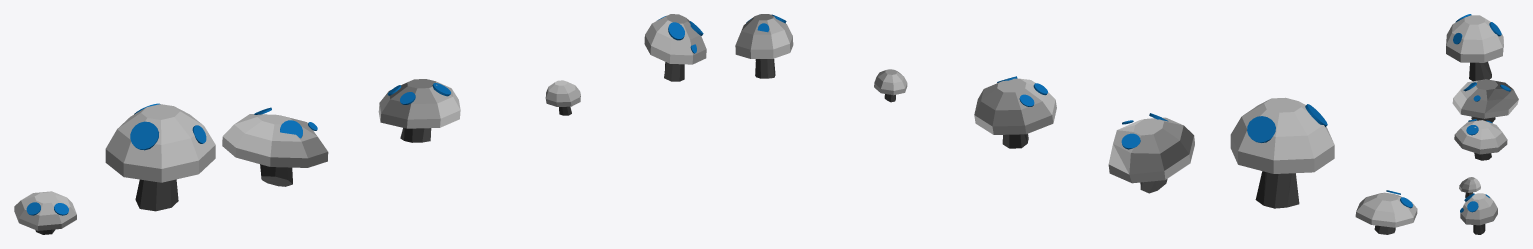
File: BlueMushrooms.fbx
3 renders of one model, left to right at view 1: azimuth 30°, elevation 25°; view 2: azimuth 150°, elevation 25°; view 3: azimuth 270°, elevation 25°, orthographic. The views are drawn at different scales.
Visible parts, largest first — view 1: Object003, Object004, Object005, Object006, Object001, Object002, Cylinder001; view 2: Object003, Object004, Object005, Object006, Object001, Object002, Cylinder011; view 3: Object003, Object004, Object005, Object006, Object002, Cylinder013, Cylinder004, Cylinder011, Cylinder003, Cylinder006.
Boxes of the visible parts, <box> form: Object003: <box>105,104,215,211</box>; Object004: <box>222,114,328,186</box>; Object005: <box>378,79,460,142</box>; Object006: <box>644,14,706,81</box>; Object001: <box>14,191,76,234</box>; Object002: <box>545,80,580,115</box>; Cylinder001: <box>130,121,158,150</box>; Object003: <box>1230,97,1334,208</box>; Object004: <box>1108,117,1194,193</box>; Object005: <box>974,78,1056,148</box>; Object006: <box>735,14,793,78</box>; Object001: <box>1355,192,1417,234</box>; Object002: <box>874,69,907,102</box>; Cylinder011: <box>1247,116,1275,142</box>; Object003: <box>1446,15,1503,81</box>; Object004: <box>1452,79,1518,122</box>; Object005: <box>1454,120,1507,160</box>; Object006: <box>1460,193,1497,234</box>; Object002: <box>1459,177,1480,197</box>; Cylinder013: <box>1466,125,1478,135</box>; Cylinder004: <box>1467,201,1478,212</box>; Cylinder011: <box>1489,22,1501,36</box>; Cylinder003: <box>1453,33,1462,44</box>; Cylinder006: <box>1463,82,1476,91</box>.
Size of the model in its own units: 71.81 by 10.71 by 10.91.
